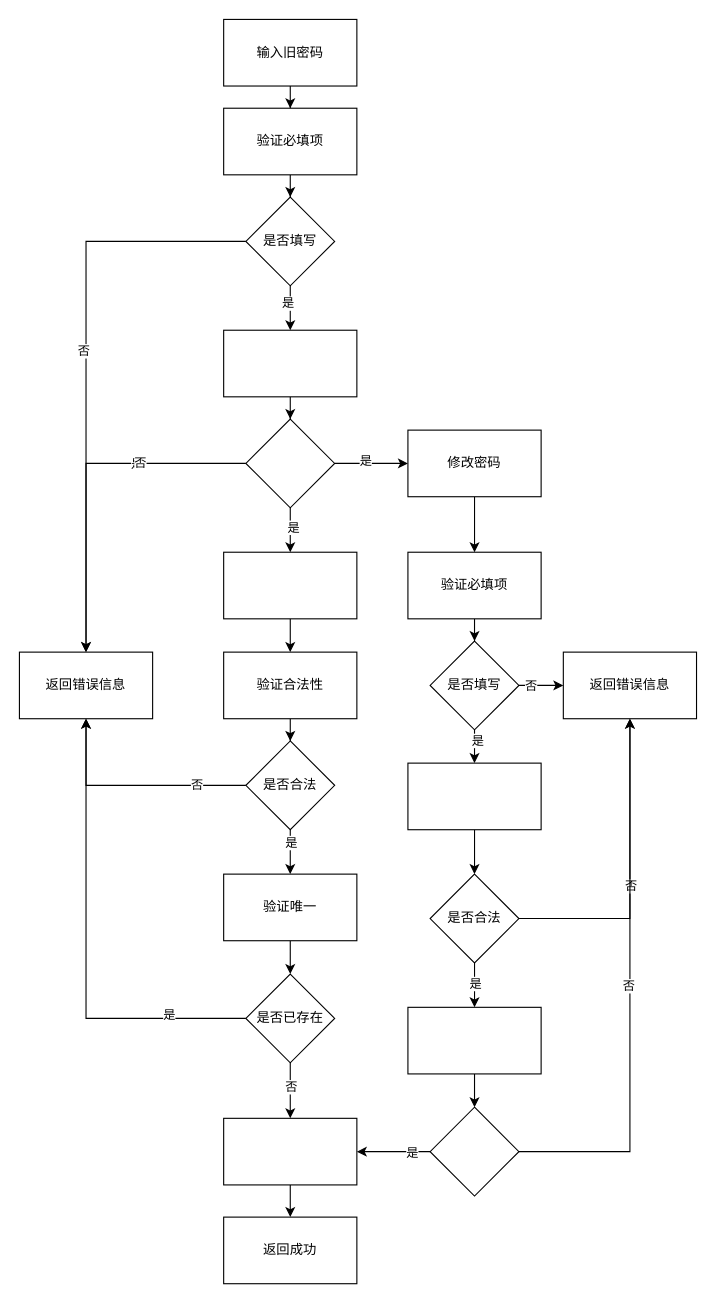
Some shapes in this 716 by 1303 pixel diagram are drawn without their labels. Each missing label, with the centre of its shape:
"两次密码一致性验证" goes at (x=474, y=1040).
"修改" goes at (x=290, y=1151).
"修改用户名" goes at (x=290, y=585).
"是否一致" goes at (x=474, y=1151).
"是否正确" goes at (x=290, y=463).
"验证合法" goes at (x=474, y=796).
"验证旧密码" goes at (x=290, y=363).
